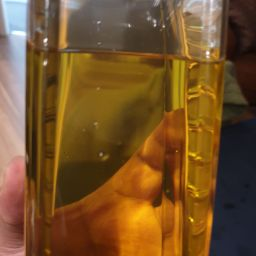Oil: (17, 17, 243, 250), (50, 55, 202, 256), (68, 21, 212, 161)
